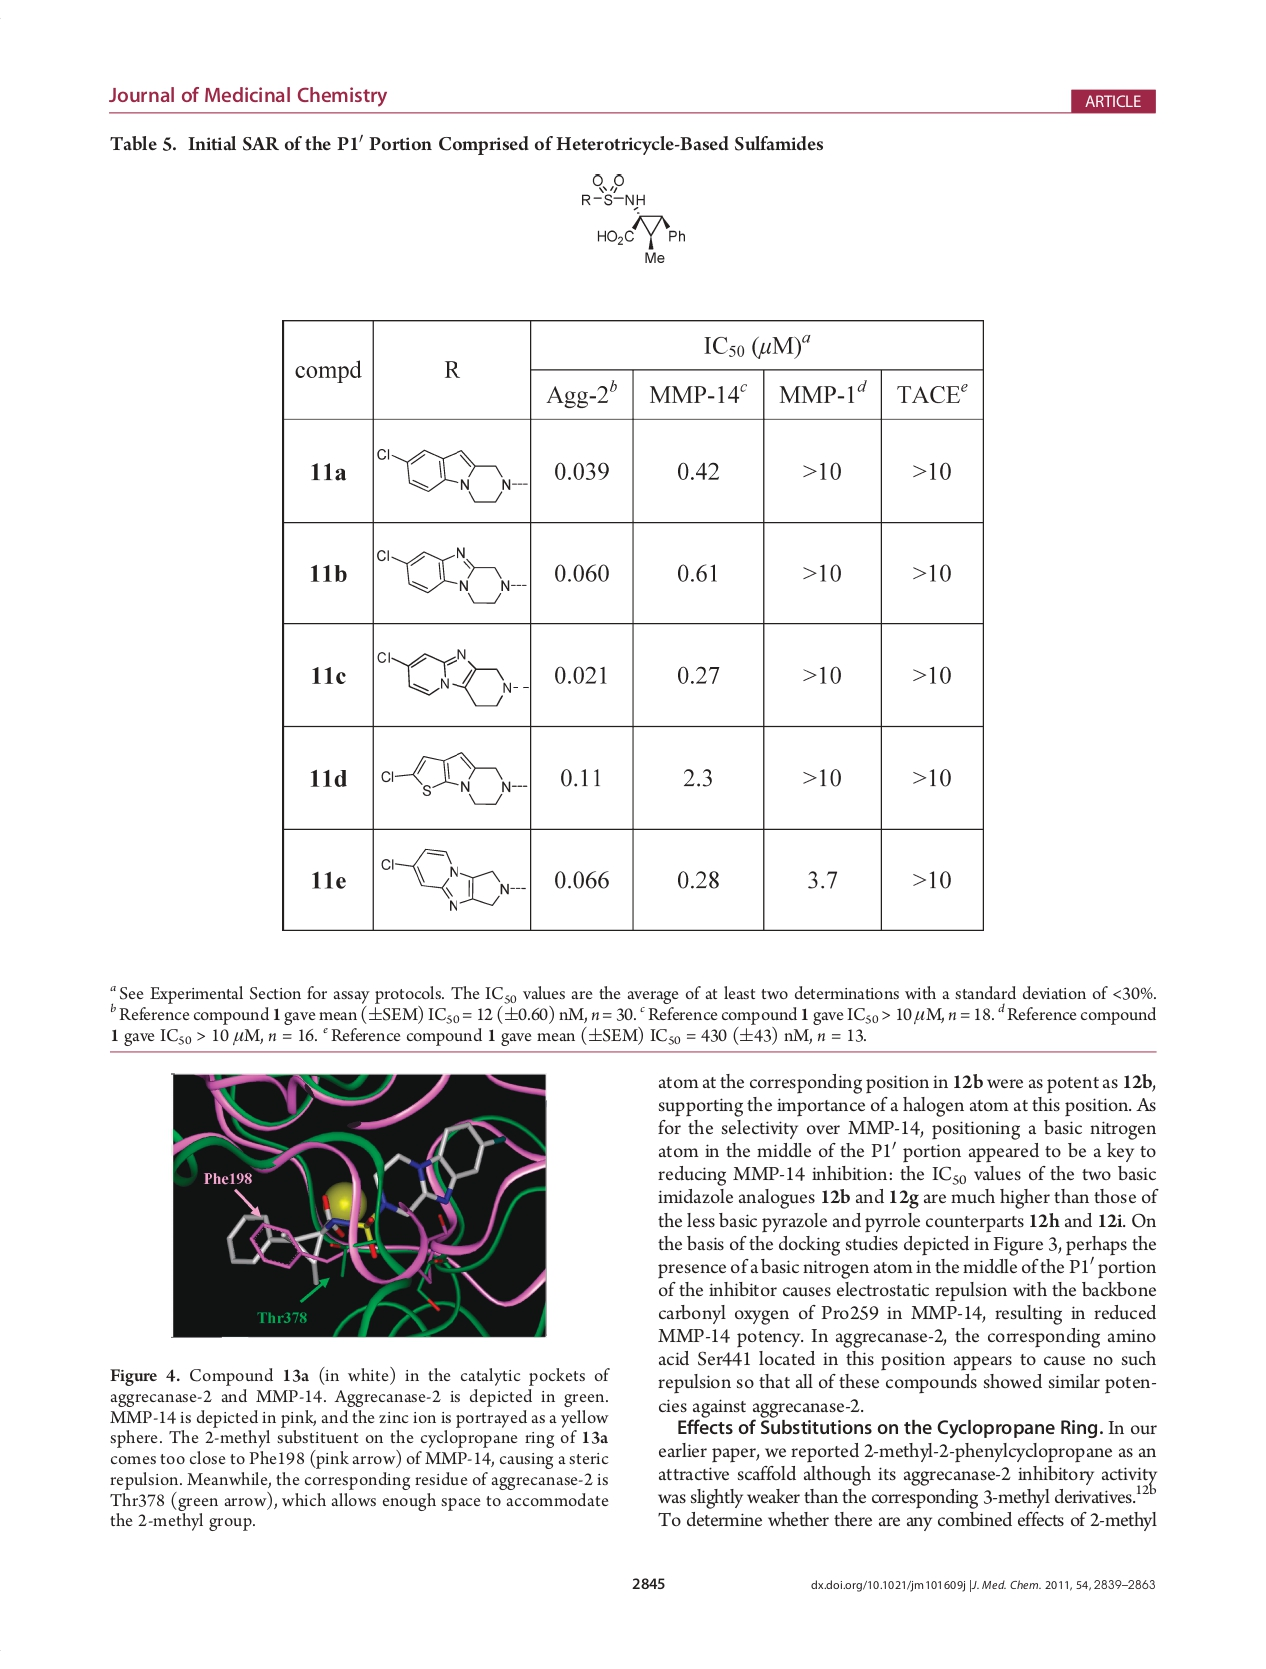exist_molecular: (576, 168, 688, 270), (376, 644, 531, 711), (375, 541, 528, 609), (379, 844, 527, 914), (376, 446, 529, 507), (380, 751, 528, 810)
